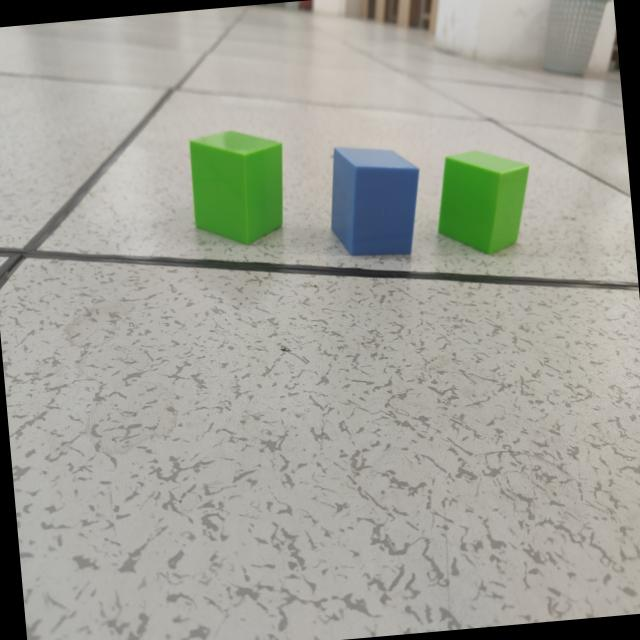blue: (329, 146, 422, 261)
green: (188, 131, 284, 246), (439, 151, 529, 256)
